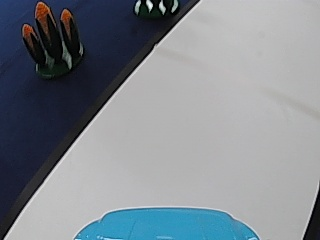corn: (20, 0, 86, 79), (131, 0, 179, 19)
